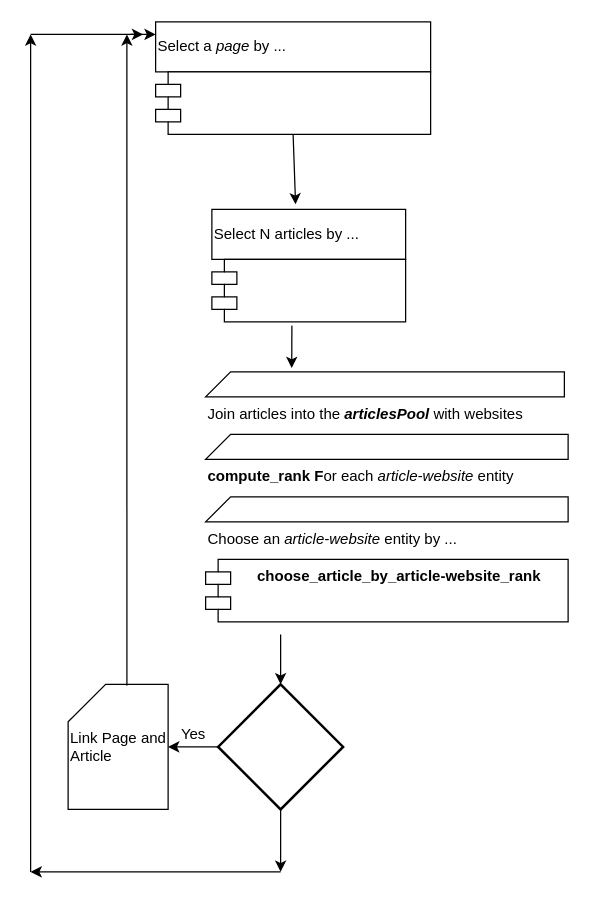
Image size: 590x904. Some labels were removed from this diagram. Here are the shapes that lost their labels. From the top down, the centre of each, then its label:
At (x=292, y=102): "choose_page_by_pageProperties".
At (x=308, y=290): "create_articlesPool".
At (x=280, y=746): "Any article wins ?".
